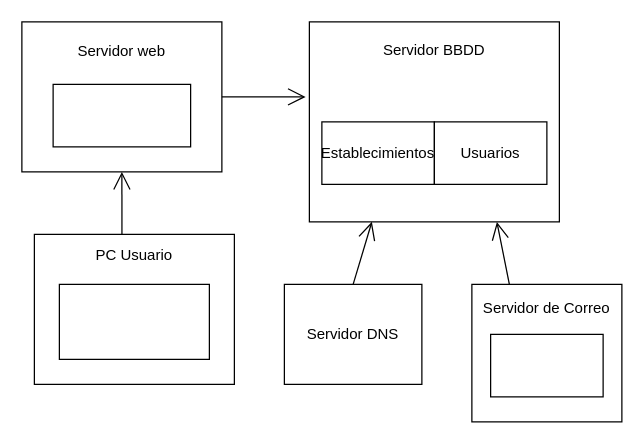
Image size: 644x444. Some labels were removed from this diagram. Here are the shapes that lost their labels. From the top down, the centre of each, then its label:
At pixel 121 115: "SpotTheSpot".
At pixel 133 321: "Navegador Web // Aplicación".
At pixel 546 365: "SMTP".
